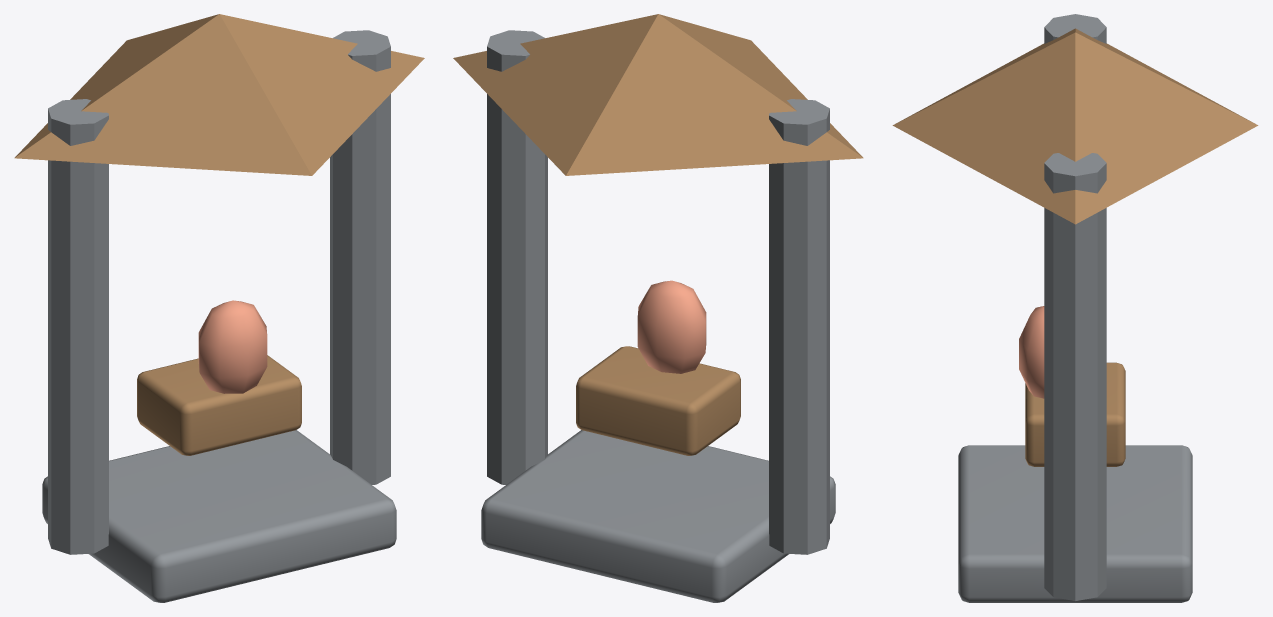
File: shrine.glb
The picture shows the model from 3 angles, left to right: view 1: azimuth 30°, elevation 25°; view 2: azimuth 150°, elevation 25°; view 3: azimuth 270°, elevation 25°; orthographic projection.
Visible parts, largest first — view 1: shrine_root; view 2: shrine_root; view 3: shrine_root.
Boxes of the visible parts, x1=… form: shrine_root: x1=14, y1=14, x2=424, y2=602; shrine_root: x1=453, y1=14, x2=863, y2=602; shrine_root: x1=892, y1=14, x2=1258, y2=602.
Size of the model in its own units: 2.47 by 3 by 1.93.
